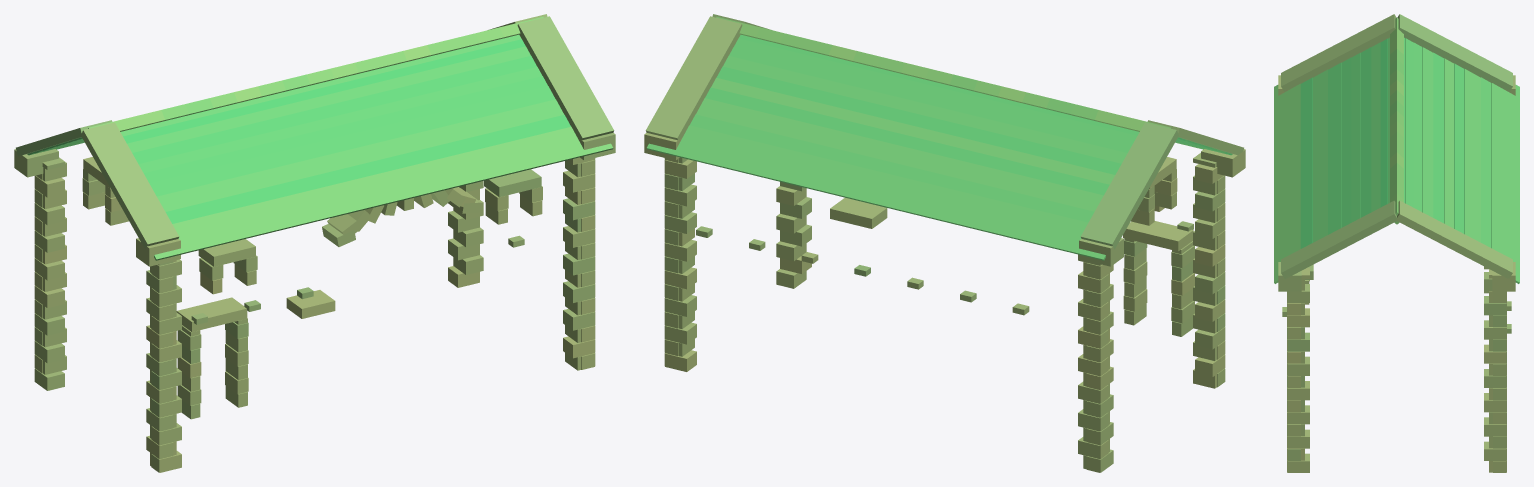
The model's file is SM_Bld_151_Stone.glb.
3 views of the same model, side by side, from view 1: azimuth 30°, elevation 25°; view 2: azimuth 150°, elevation 25°; view 3: azimuth 270°, elevation 25° (orthographic). The views are drawn at different scales.
Visible parts, largest first — view 1: SM_Bld_151_Stone; view 2: SM_Bld_151_Stone; view 3: SM_Bld_151_Stone.
Part boxes in pixels (x1,y1,x2,y2): SM_Bld_151_Stone: [14, 14, 615, 472]; SM_Bld_151_Stone: [644, 14, 1245, 472]; SM_Bld_151_Stone: [1274, 14, 1519, 472].
Size of the model in its own units: 10.61 by 6.56 by 5.51.
